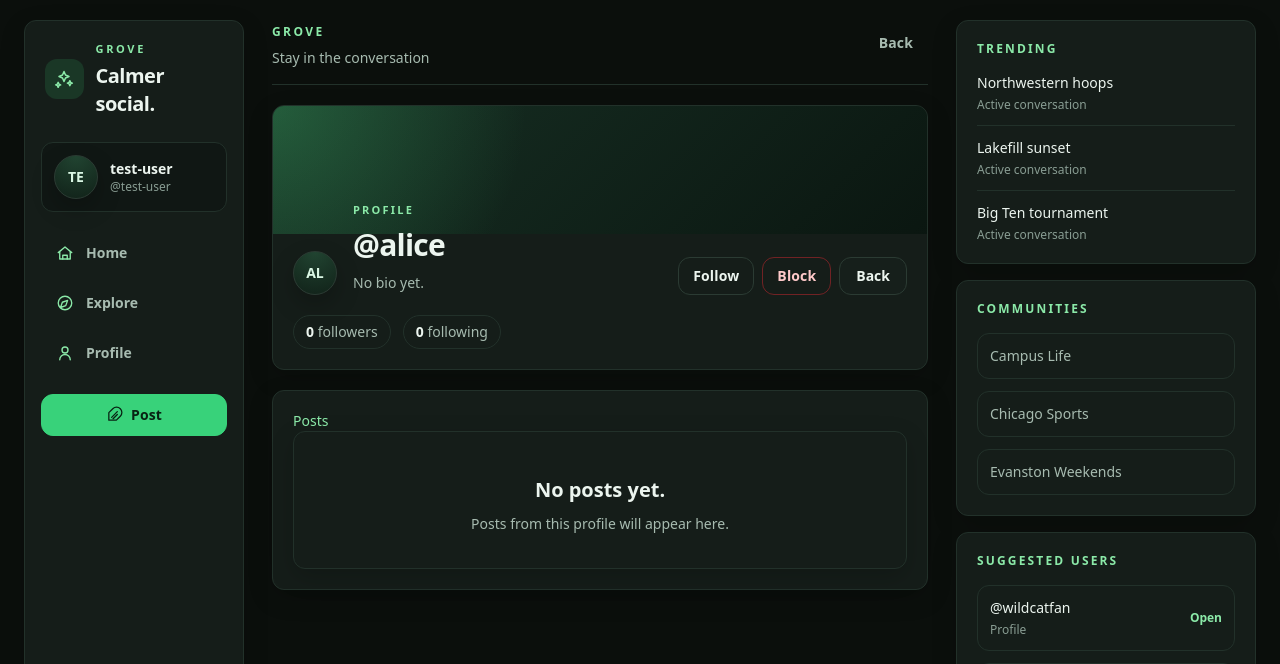
Test case: UserProfilePage › shows "User not found" when follow action returns 404
Click the button "Follow": (716, 276) [678,256,754,294]
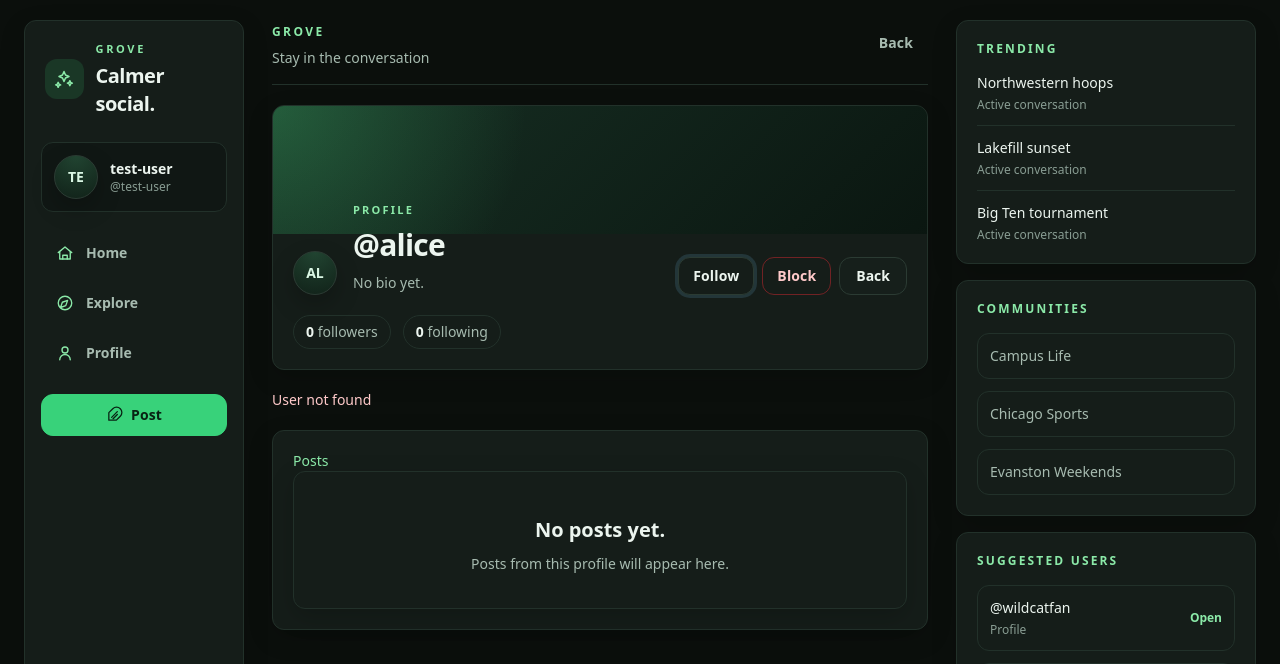
Expected: the message reads "User not found", [272,390,371,408]
